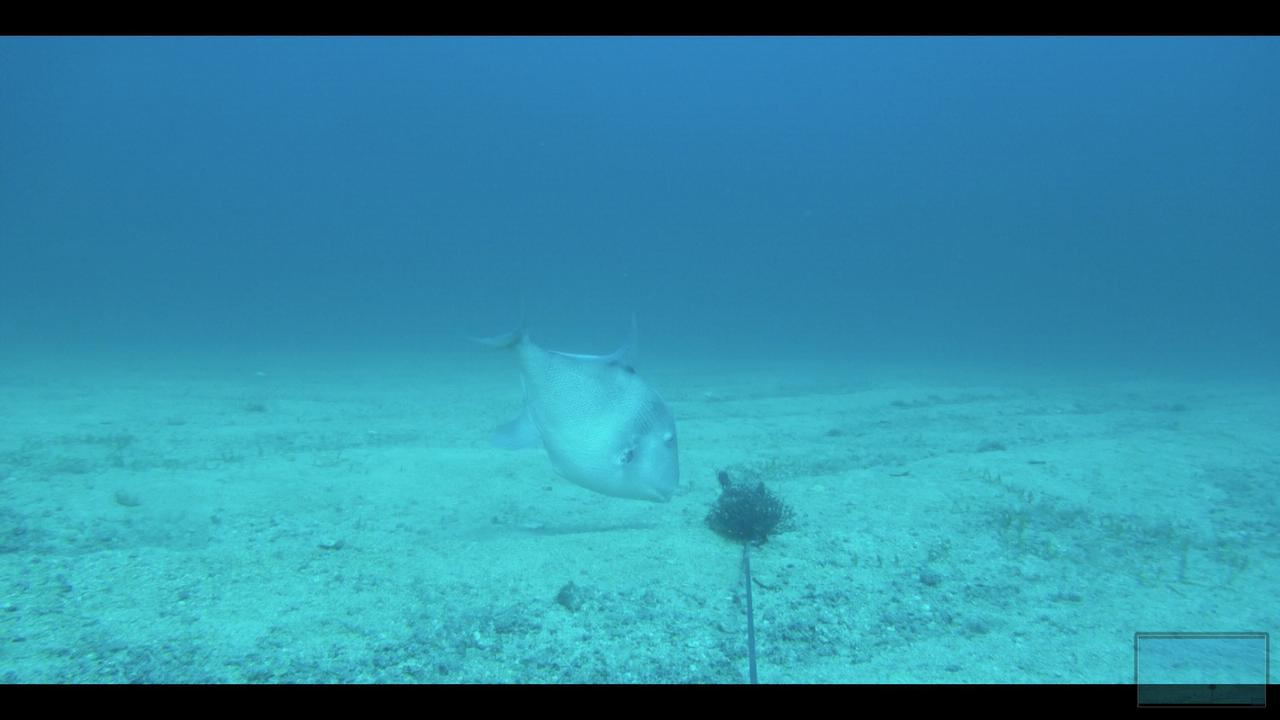balistes: (452, 283, 686, 505)
